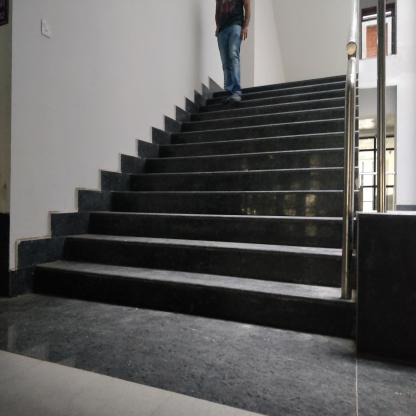stairs: (120, 185, 342, 330)
